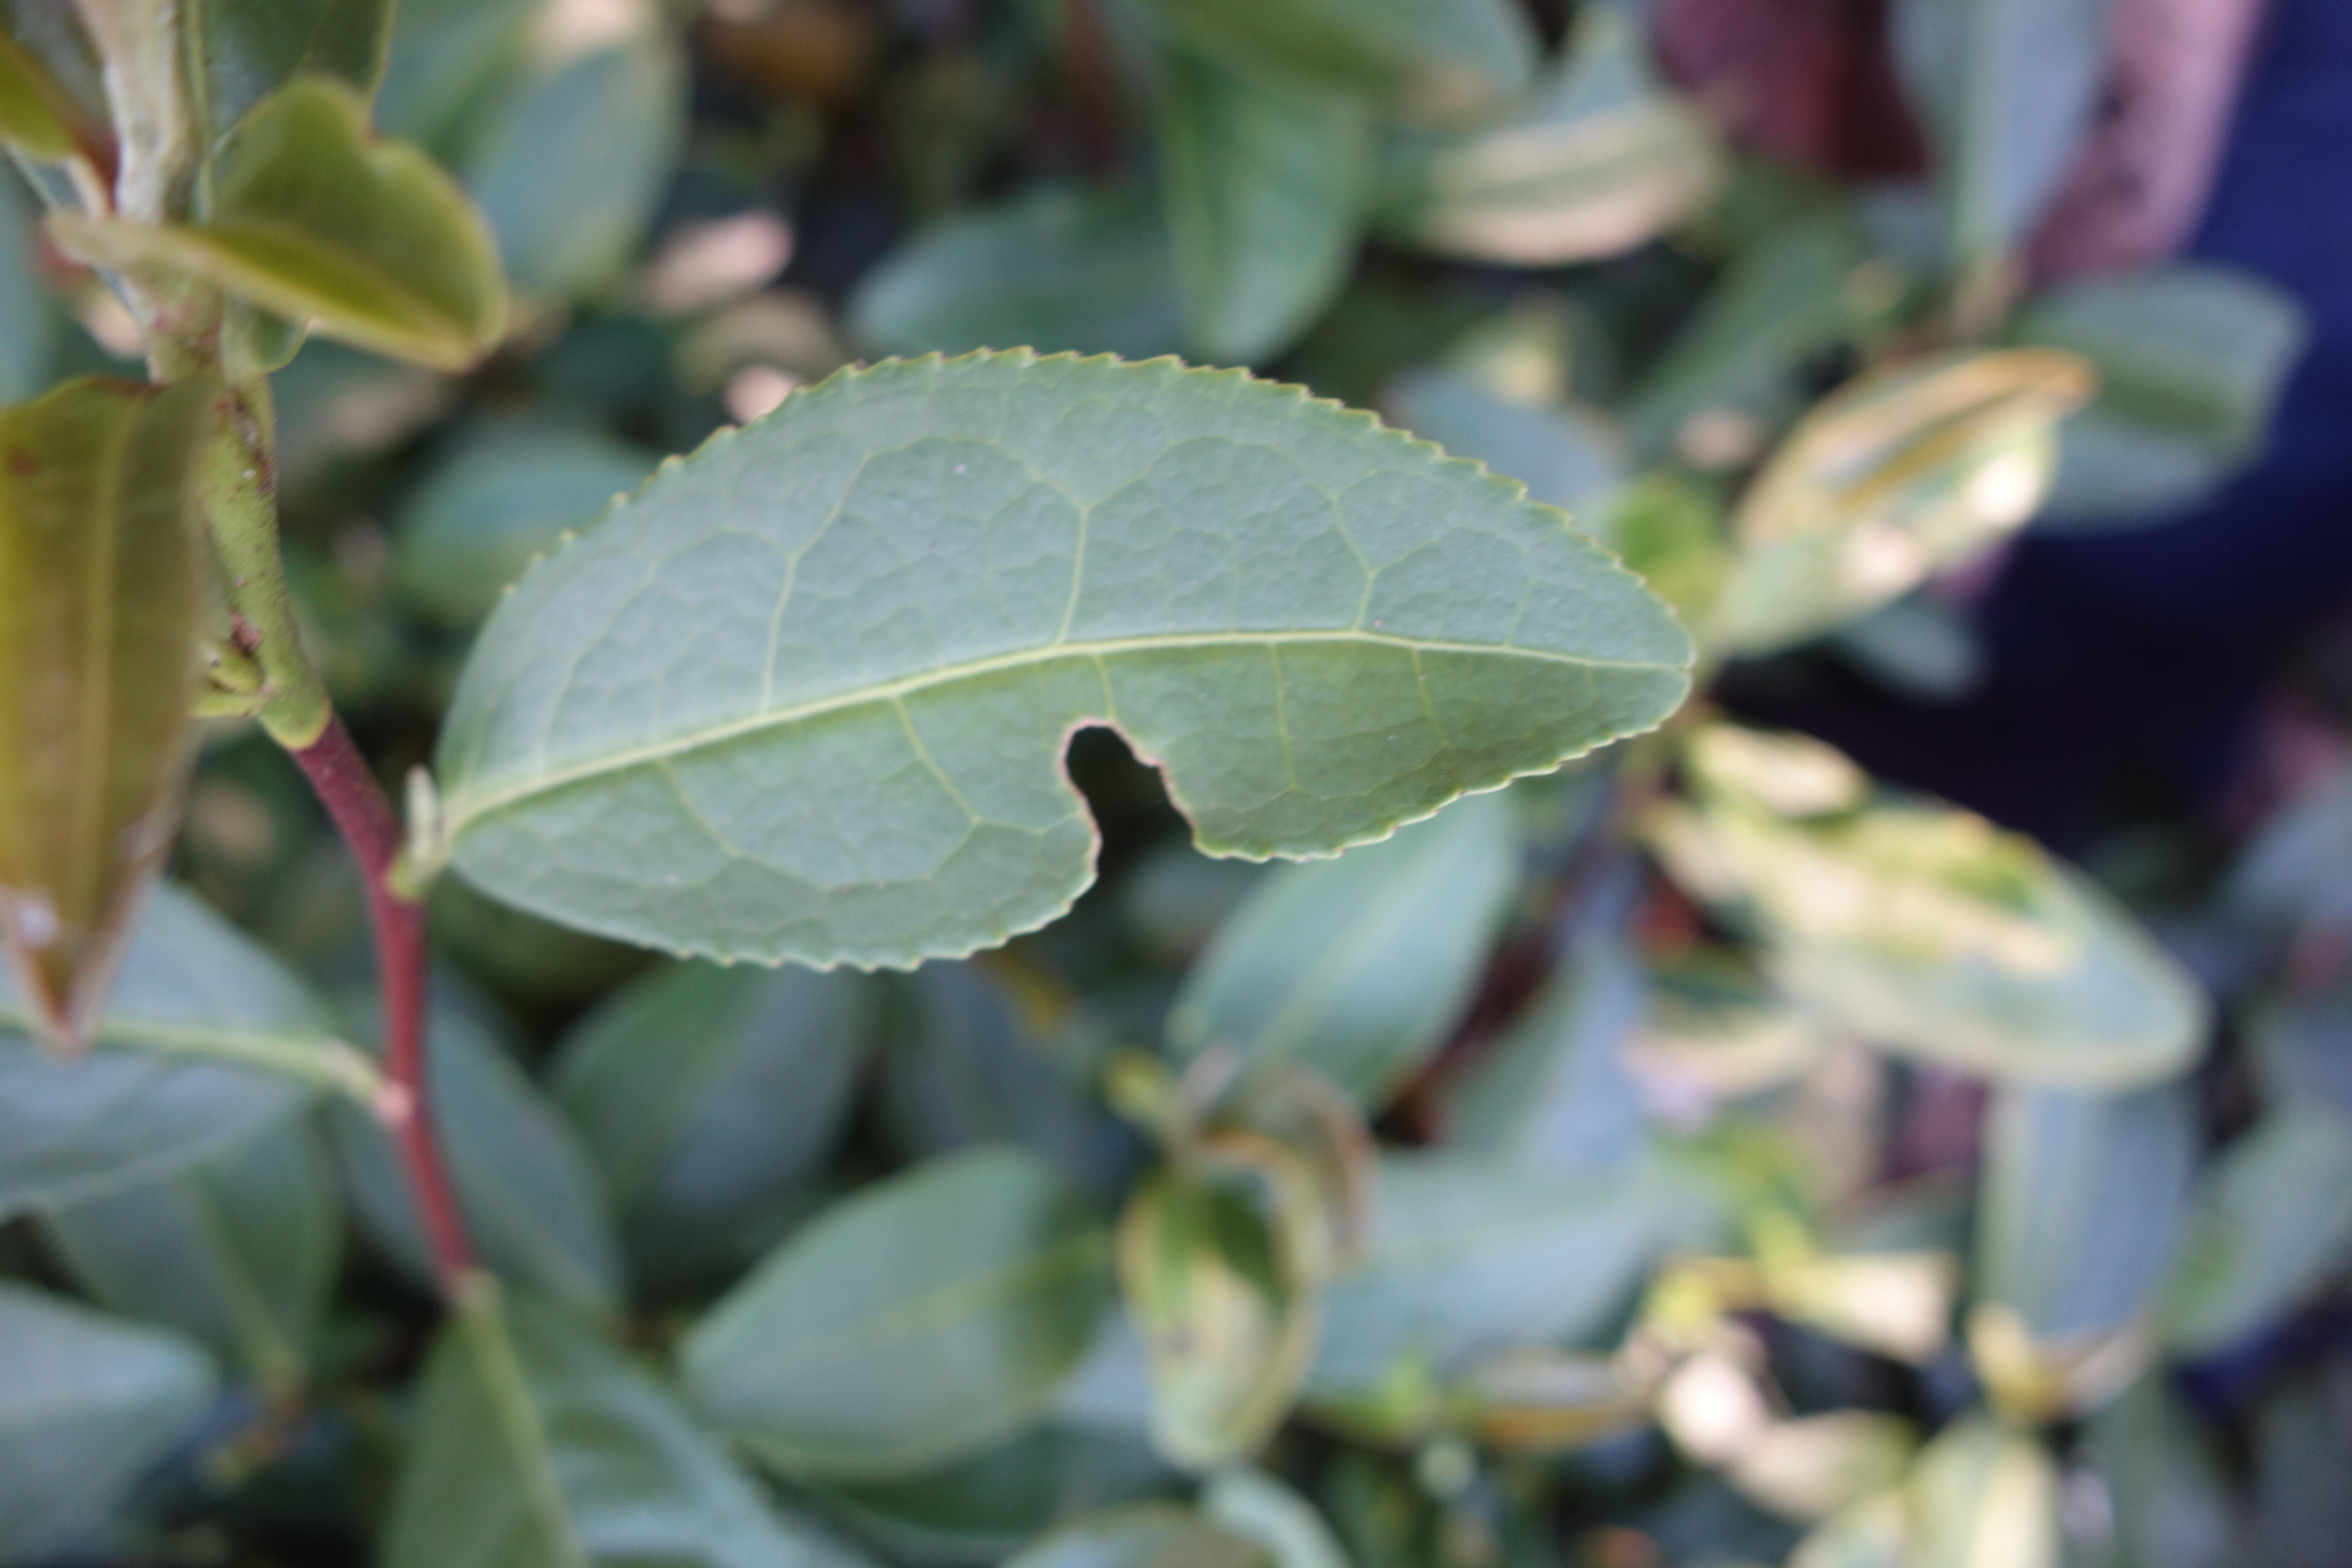chihuo_low: (430, 346, 1703, 975)
